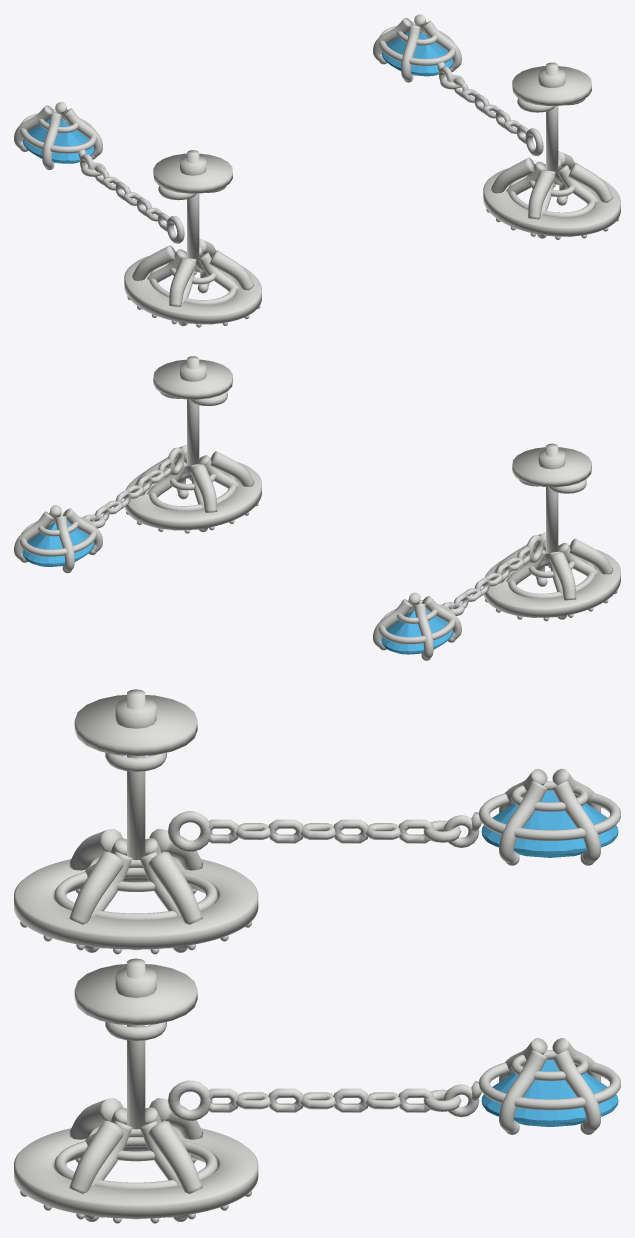
The model's file is Earring_OvalHaloDrop.fbx.
3 views of the same model, one above another, from view 1: azimuth 30°, elevation 25°; view 2: azimuth 150°, elevation 25°; view 3: azimuth 270°, elevation 25° (orthographic). The views are drawn at different scales.
Visible parts, largest first — view 1: Halo_Frame.001, Halo_Frame, Drop_Chain_Center, Drop_Chain_Pair, Attach_Back, Attach_Back.001, Head_Center, Head_Center.001, AccentMatch_Drop_Pair, AccentMatch_Drop_Center, Attach_Post, Attach_Post.001; view 2: Halo_Frame.001, Halo_Frame, Drop_Chain_Center, Drop_Chain_Pair, Attach_Back.001, Attach_Back, Head_Center.001, Head_Center, AccentMatch_Drop_Center, AccentMatch_Drop_Pair, Attach_Post, Attach_Post.001; view 3: Halo_Frame, Halo_Frame.001, Drop_Chain_Center, Drop_Chain_Pair, Attach_Back, Attach_Back.001, Head_Center.001, Head_Center, AccentMatch_Drop_Center, AccentMatch_Drop_Pair, Attach_Post, Attach_Post.001.
Part boxes in pixels (x1=…): Halo_Frame.001: x1=124, y1=238, x2=261, y2=327; Halo_Frame: x1=483, y1=151, x2=620, y2=239; Drop_Chain_Center: x1=373, y1=14, x2=543, y2=156; Drop_Chain_Pair: x1=14, y1=102, x2=184, y2=243; Attach_Back: x1=512, y1=66, x2=591, y2=112; Attach_Back.001: x1=153, y1=153, x2=232, y2=200; Head_Center: x1=506, y1=159, x2=597, y2=238; Head_Center.001: x1=147, y1=246, x2=238, y2=326; AccentMatch_Drop_Pair: x1=22, y1=118, x2=94, y2=163; AccentMatch_Drop_Center: x1=381, y1=30, x2=453, y2=76; Attach_Post: x1=546, y1=62, x2=558, y2=172; Attach_Post.001: x1=187, y1=150, x2=199, y2=260; Halo_Frame.001: x1=483, y1=532, x2=620, y2=621; Halo_Frame: x1=124, y1=444, x2=261, y2=533; Drop_Chain_Center: x1=14, y1=447, x2=184, y2=573; Drop_Chain_Pair: x1=373, y1=535, x2=543, y2=660; Attach_Back.001: x1=512, y1=447, x2=591, y2=493; Attach_Back: x1=153, y1=359, x2=232, y2=405; Head_Center.001: x1=506, y1=540, x2=597, y2=619; Head_Center: x1=147, y1=452, x2=238, y2=532; AccentMatch_Drop_Center: x1=22, y1=521, x2=94, y2=566; AccentMatch_Drop_Pair: x1=381, y1=609, x2=453, y2=654; Attach_Post: x1=187, y1=356, x2=199, y2=466; Attach_Post.001: x1=546, y1=443, x2=558, y2=554; Halo_Frame: x1=14, y1=1098, x2=258, y2=1223; Halo_Frame.001: x1=14, y1=828, x2=258, y2=954; Drop_Chain_Center: x1=168, y1=1038, x2=620, y2=1134; Drop_Chain_Pair: x1=168, y1=768, x2=620, y2=865; Attach_Back: x1=74, y1=964, x2=197, y2=1040; Attach_Back.001: x1=74, y1=695, x2=197, y2=771; Head_Center.001: x1=54, y1=838, x2=217, y2=952; Head_Center: x1=54, y1=1107, x2=217, y2=1221; AccentMatch_Drop_Center: x1=481, y1=1060, x2=618, y2=1126; AccentMatch_Drop_Pair: x1=481, y1=791, x2=618, y2=857; Attach_Post: x1=127, y1=958, x2=145, y2=1129; Attach_Post.001: x1=127, y1=689, x2=145, y2=860.
Bounding box in the file's own units: 0.0367 × 0.0117 × 0.0267.
